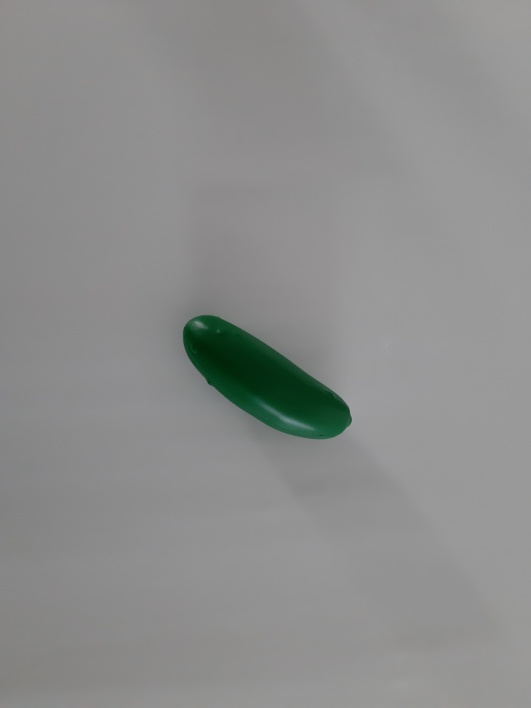cucumber: (143, 291, 380, 464)
